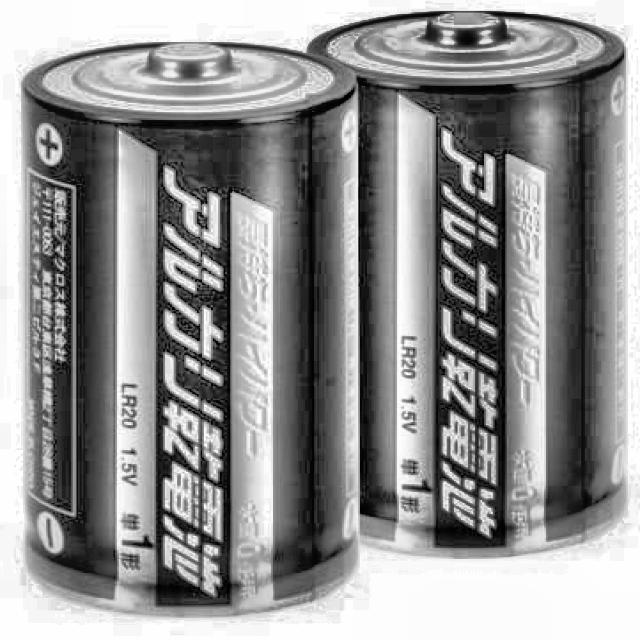drycell: (10, 38, 375, 621), (308, 8, 629, 559)
